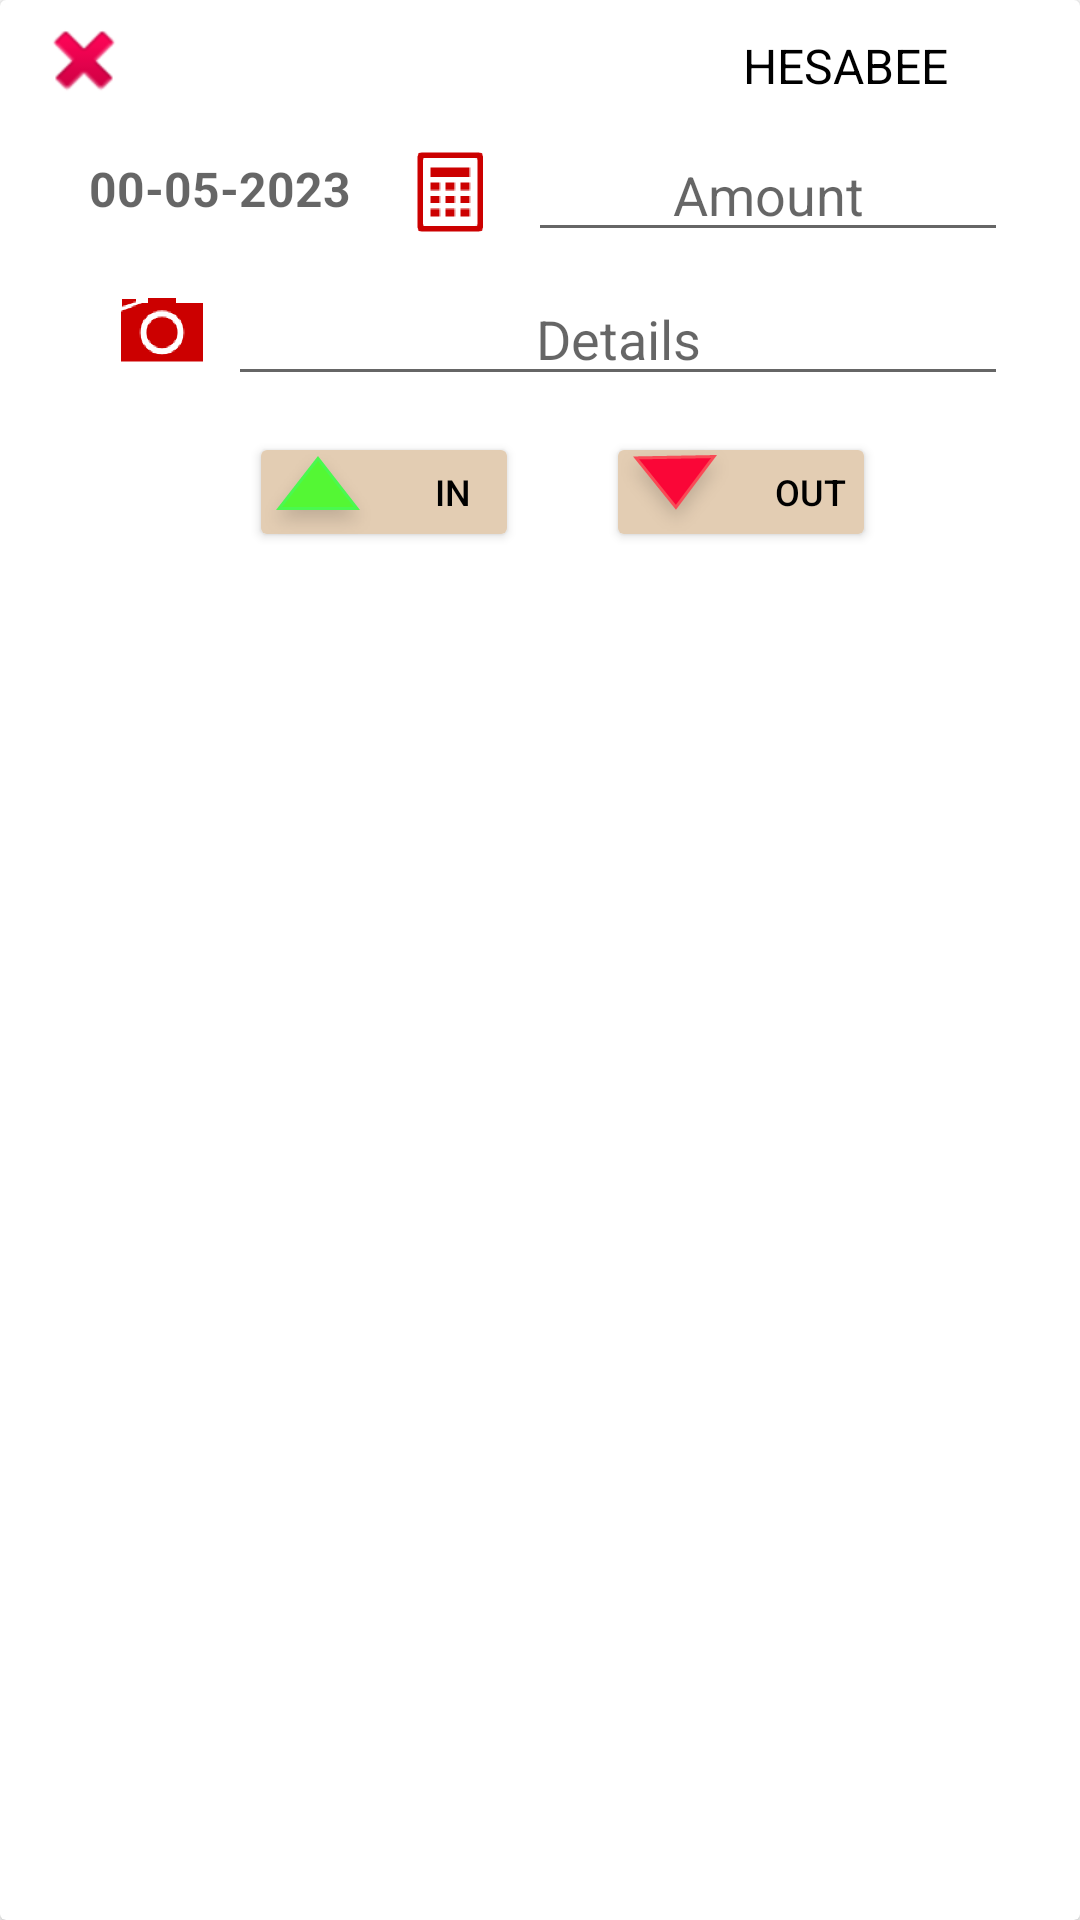

Icon bounding boxes for this 1080×1920 phone screenshot, format [x1, y1, x2, y2]:
calculator: [417, 152, 483, 232]
camera: [121, 298, 203, 362]
delete: [0, 1, 115, 90]
